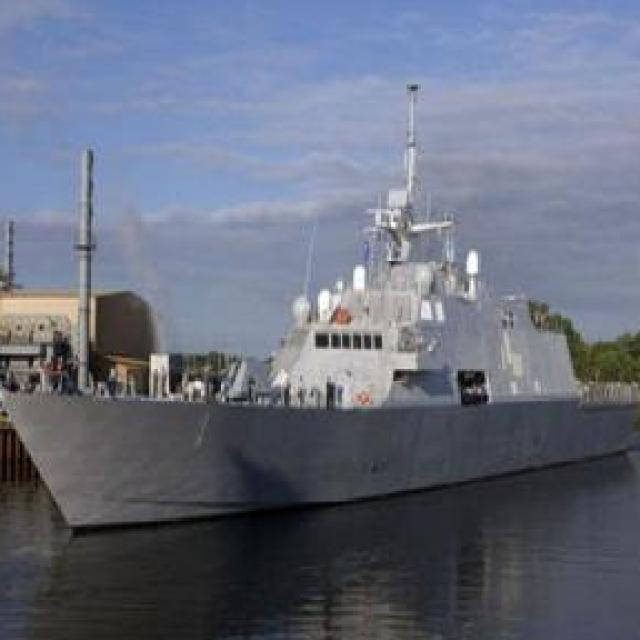navalvessels: (0, 62, 620, 547)
